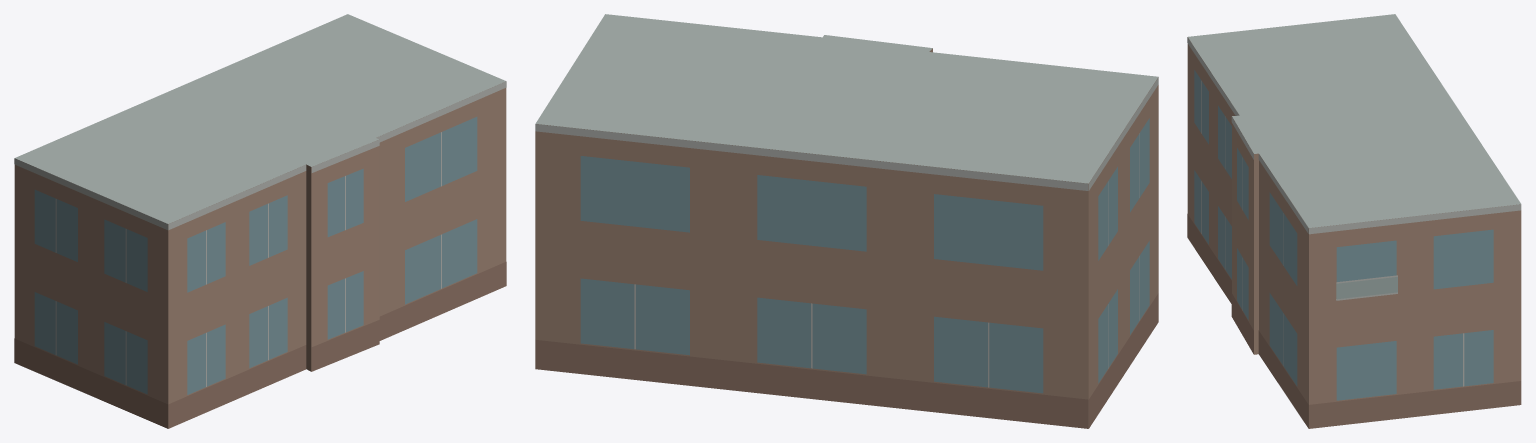
The model's file is survey-upis-32616229.glb.
3 views of the same model, side by side, from view 1: azimuth 30°, elevation 25°; view 2: azimuth 150°, elevation 25°; view 3: azimuth 270°, elevation 25° (orthographic). The views are drawn at different scales.
Visible parts, largest first — view 1: survey-upis-32616229.tmp; view 2: survey-upis-32616229.tmp; view 3: survey-upis-32616229.tmp.
Boxes of the visible parts, box(x1,y1,x2,y2) form: survey-upis-32616229.tmp: box(14, 14, 506, 428); survey-upis-32616229.tmp: box(535, 14, 1158, 428); survey-upis-32616229.tmp: box(1187, 14, 1521, 428).
Size of the model in its own units: 18.09 by 7.9 by 11.92.
